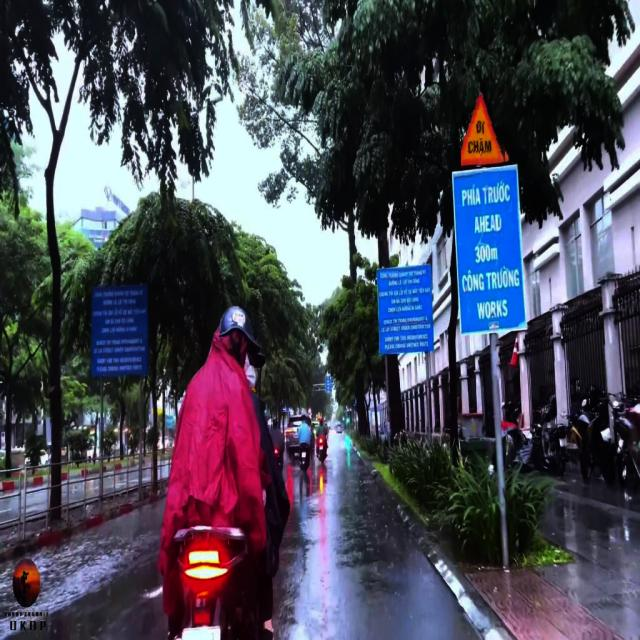di_cham: (461, 89, 510, 167)
